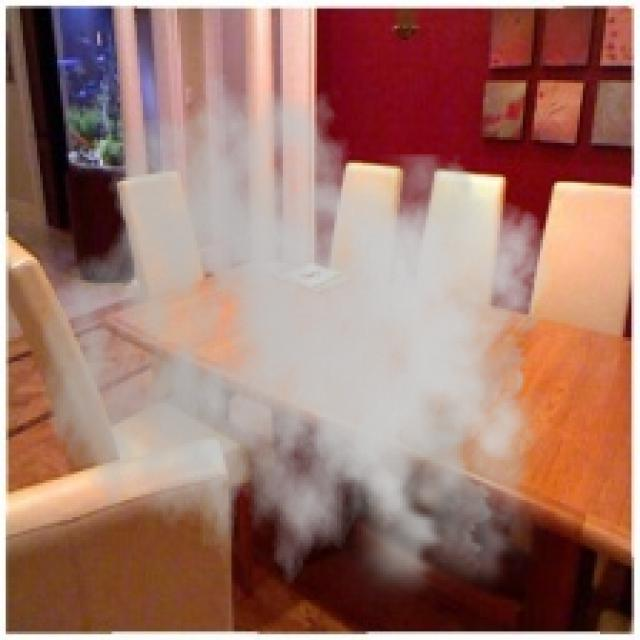smoke: (40, 71, 569, 620)
